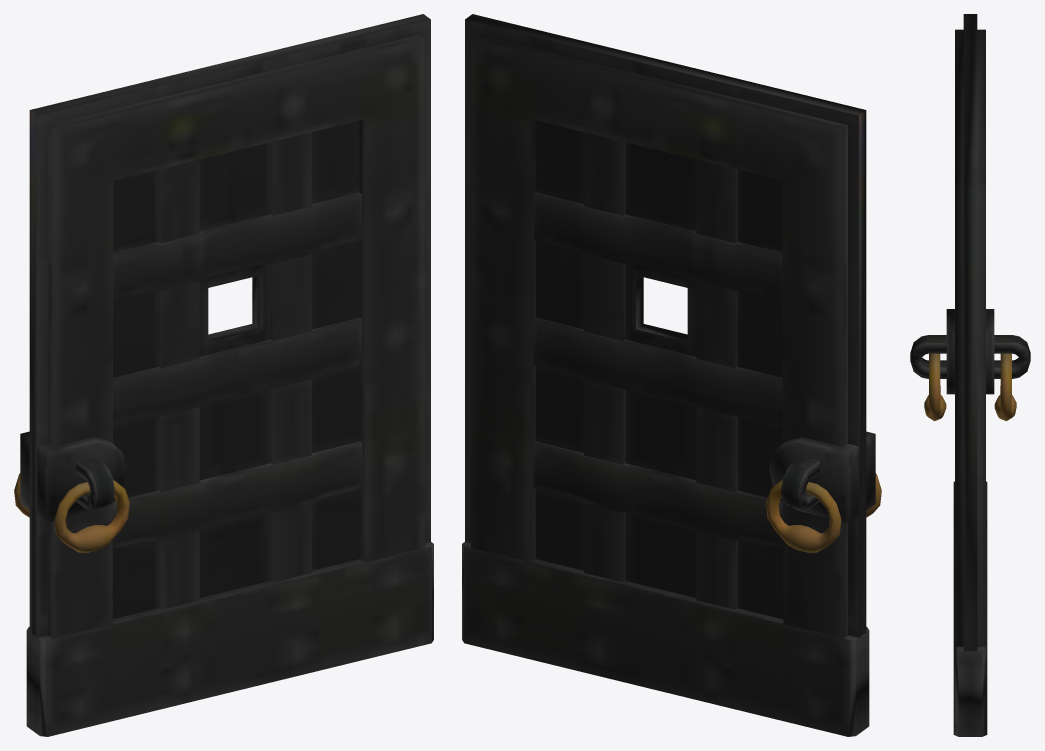
File: door-iron-s.glb
3 renders of one model, left to right at view 1: azimuth 30°, elevation 25°; view 2: azimuth 150°, elevation 25°; view 3: azimuth 270°, elevation 25°, orthographic. The views are drawn at different scales.
Size of the model in its own units: 12 by 18 by 3.56.
Materials: 1 (1 with a texture image).
